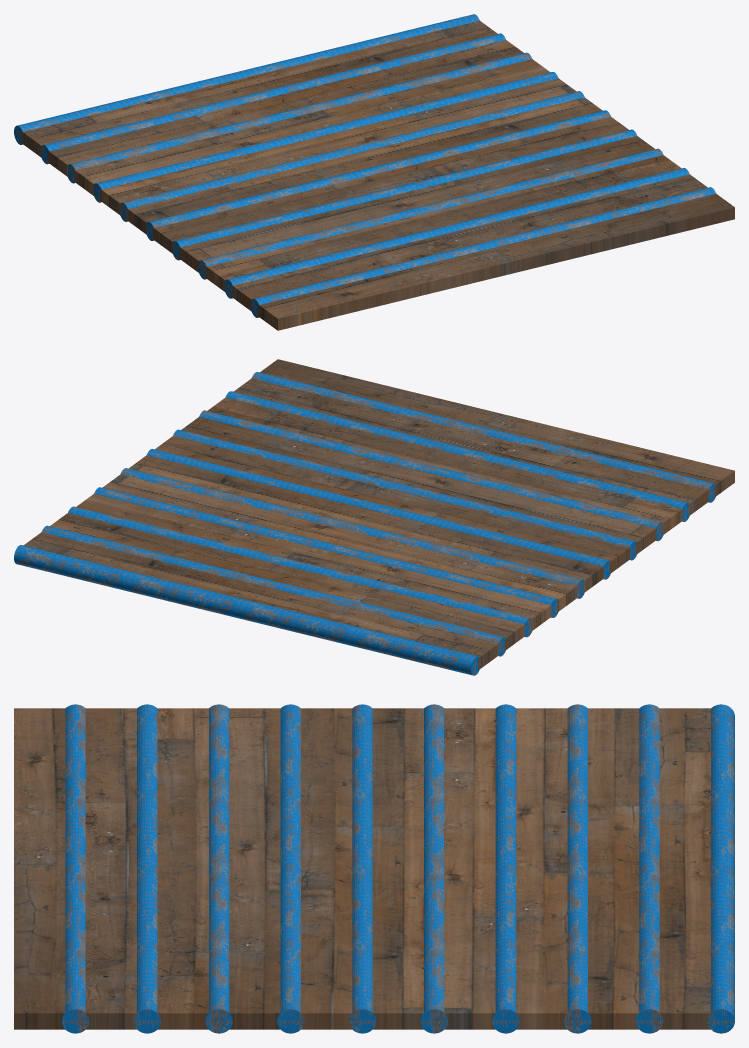
File: TechoFabrica.fbx
3 renders of one model, top to bottom at view 1: azimuth 30°, elevation 25°; view 2: azimuth 150°, elevation 25°; view 3: azimuth 270°, elevation 25°, orthographic. The views are drawn at different scales.
Parts seen in each view (by area): view 1: Cube.001; view 2: Cube.001; view 3: Cube.001.
Part boxes in pixels (x1,y1,x2,y2): Cube.001: (14, 14, 734, 330); Cube.001: (14, 359, 734, 675); Cube.001: (14, 704, 734, 1033).
Size of the model in its own units: 400 by 15 by 400.
2 materials, 2 textured.
